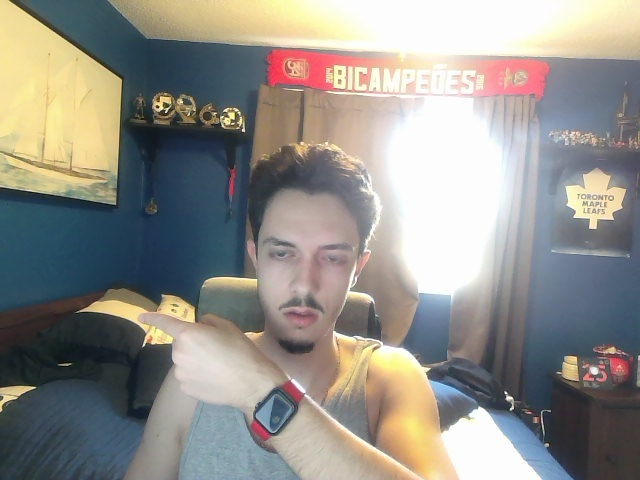Right: (137, 312, 265, 407)
